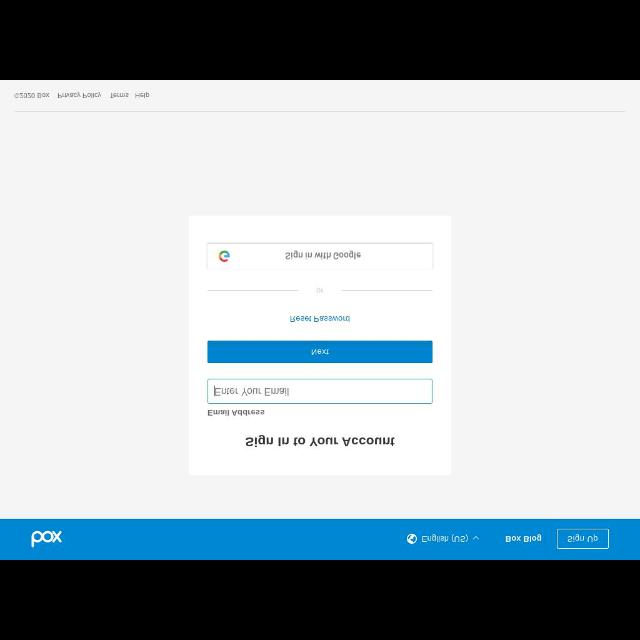icon: (407, 534, 417, 544), (472, 536, 480, 540)
image: (218, 250, 230, 262)
input: (208, 378, 432, 404), (208, 244, 432, 268)
text: (247, 436, 396, 446), (286, 250, 360, 260), (215, 388, 289, 396), (32, 530, 62, 548), (208, 409, 264, 416), (422, 534, 468, 542), (290, 316, 350, 322), (506, 534, 542, 542), (58, 92, 102, 98), (568, 534, 598, 542), (15, 92, 50, 98), (311, 349, 329, 355), (110, 93, 128, 99), (135, 92, 149, 98), (316, 288, 324, 292)
textbutton: (208, 342, 432, 362), (558, 530, 608, 548)
toolbar: (1, 518, 639, 560)
